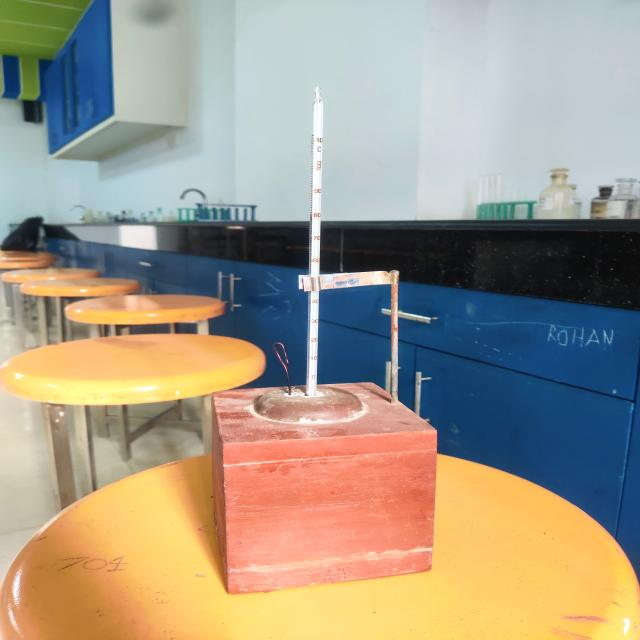Calorimeter: (186, 73, 451, 607)
